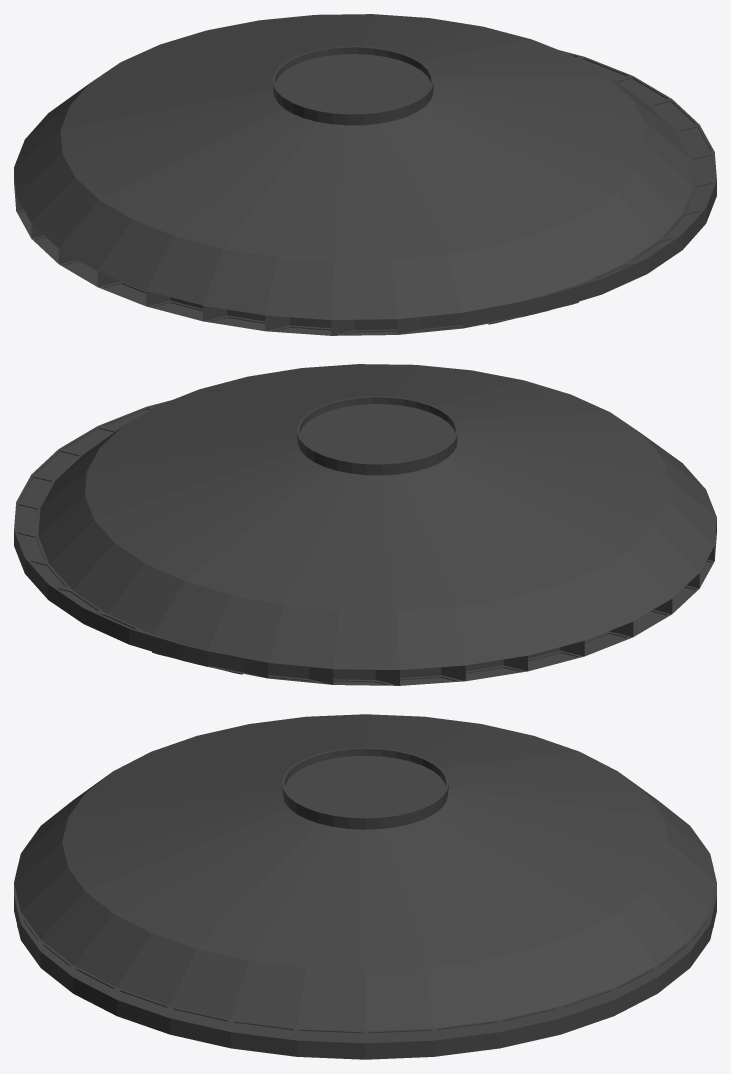
The model's file is room1.glb.
3 renders of one model, top to bottom at view 1: azimuth 30°, elevation 25°; view 2: azimuth 150°, elevation 25°; view 3: azimuth 270°, elevation 25°, orthographic. The views are drawn at different scales.
Visible parts, largest first — view 1: Cone; view 2: Cone; view 3: Cone.
Part boxes in pixels (x1=…): Cone: x1=14, y1=14, x2=716, y2=335; Cone: x1=14, y1=364, x2=716, y2=685; Cone: x1=14, y1=714, x2=716, y2=1059.
Bounding box in the file's own units: 152 × 26.77 × 146.
Materials: 5 (5 with a texture image).
